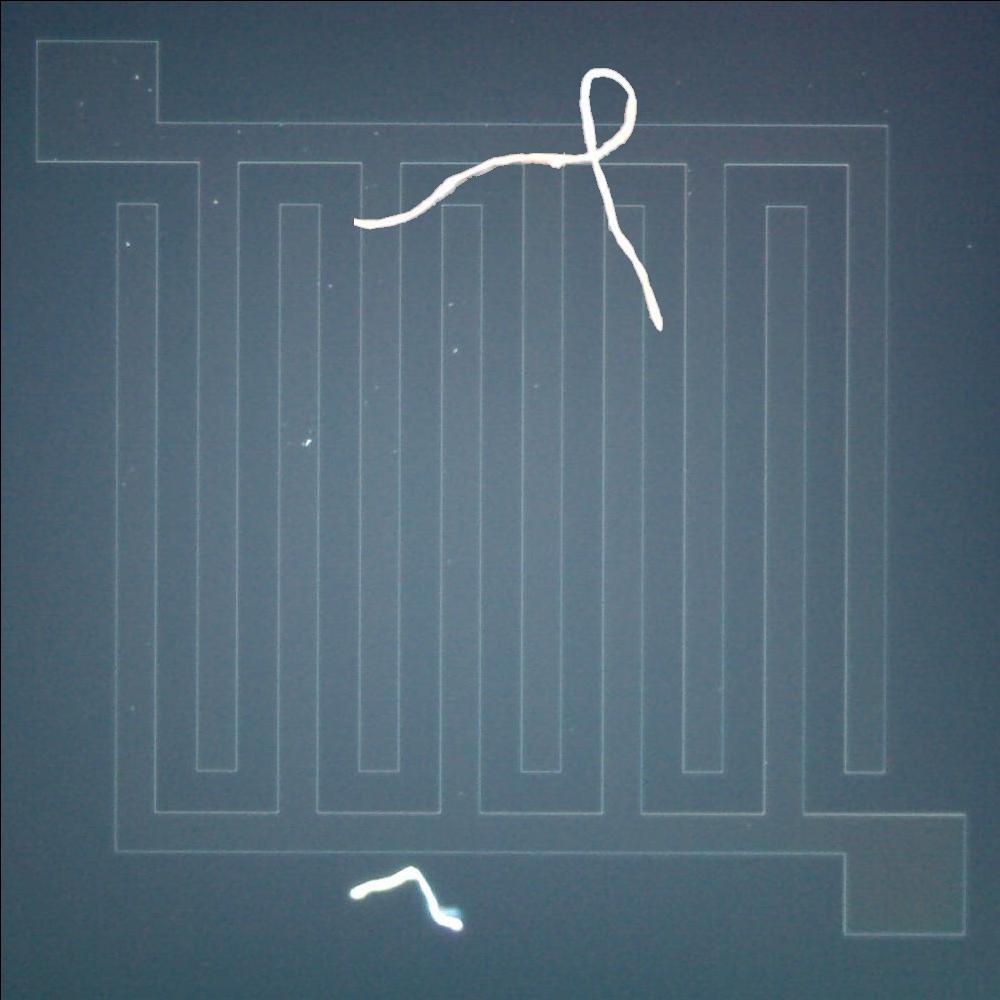dot: (299, 432, 316, 452)
line: (344, 56, 670, 340), (338, 852, 471, 942)
